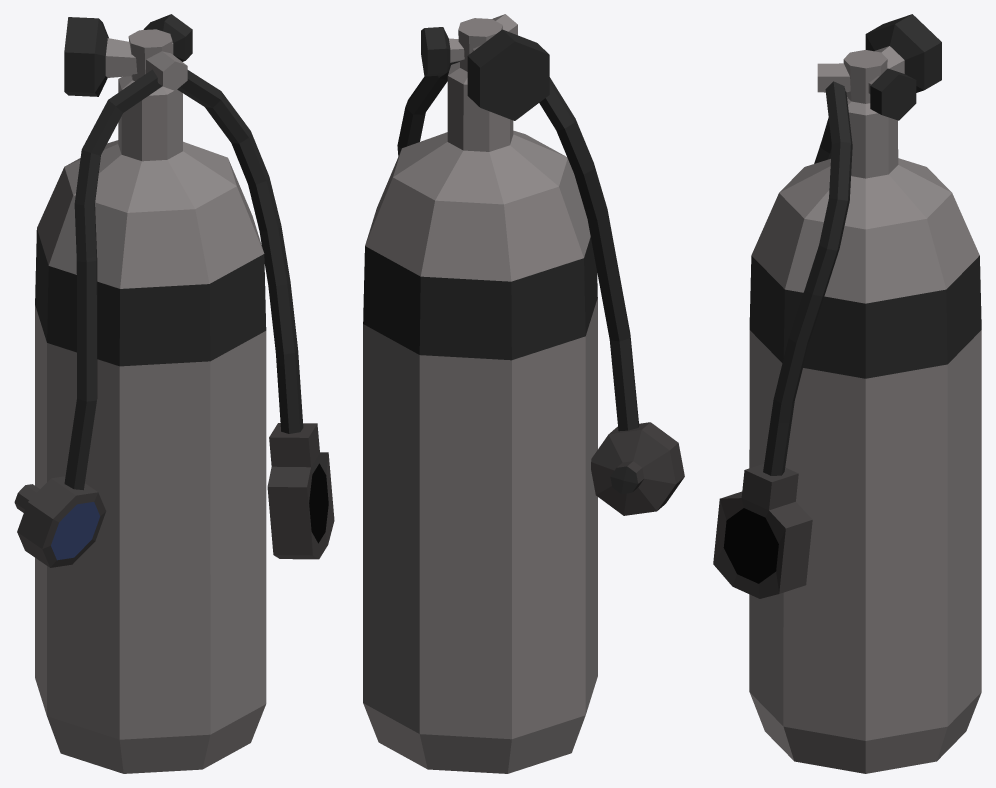
Rendered from beach_scuba-tank.fbx.
3 renders of one model, left to right at view 1: azimuth 30°, elevation 25°; view 2: azimuth 150°, elevation 25°; view 3: azimuth 270°, elevation 25°, orthographic. The views are drawn at different scales.
Visible parts, largest first — view 1: beach_scuba_tank; view 2: beach_scuba_tank; view 3: beach_scuba_tank.
Part boxes in pixels (x1,y1,x2,y2): beach_scuba_tank: [14, 14, 334, 773]; beach_scuba_tank: [363, 14, 684, 773]; beach_scuba_tank: [713, 14, 981, 773].
Bounding box in the file's own units: 89.04 × 200 × 70.59.
5 materials, 1 textured.
